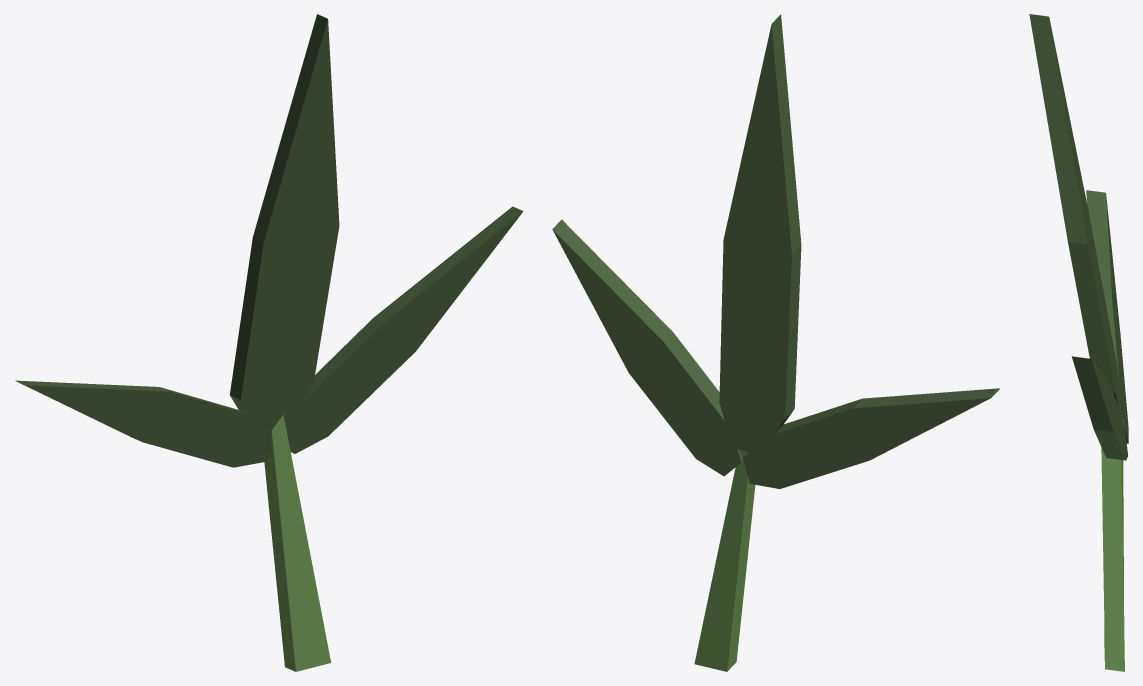
The model's file is Bamboo_1.glb.
The picture shows the model from 3 angles, left to right: view 1: azimuth 30°, elevation 25°; view 2: azimuth 150°, elevation 25°; view 3: azimuth 270°, elevation 25°; orthographic projection. The views are drawn at different scales.
Parts seen in each view (by area): view 1: Bamboo_1_Cylinder.019; view 2: Bamboo_1_Cylinder.019; view 3: Bamboo_1_Cylinder.019.
Part boxes in pixels (x1,y1,x2,y2): Bamboo_1_Cylinder.019: (15, 14, 523, 671); Bamboo_1_Cylinder.019: (552, 14, 999, 671); Bamboo_1_Cylinder.019: (1029, 14, 1128, 671).
Size of the model in its own units: 0.3829 by 0.5129 by 0.0723.
